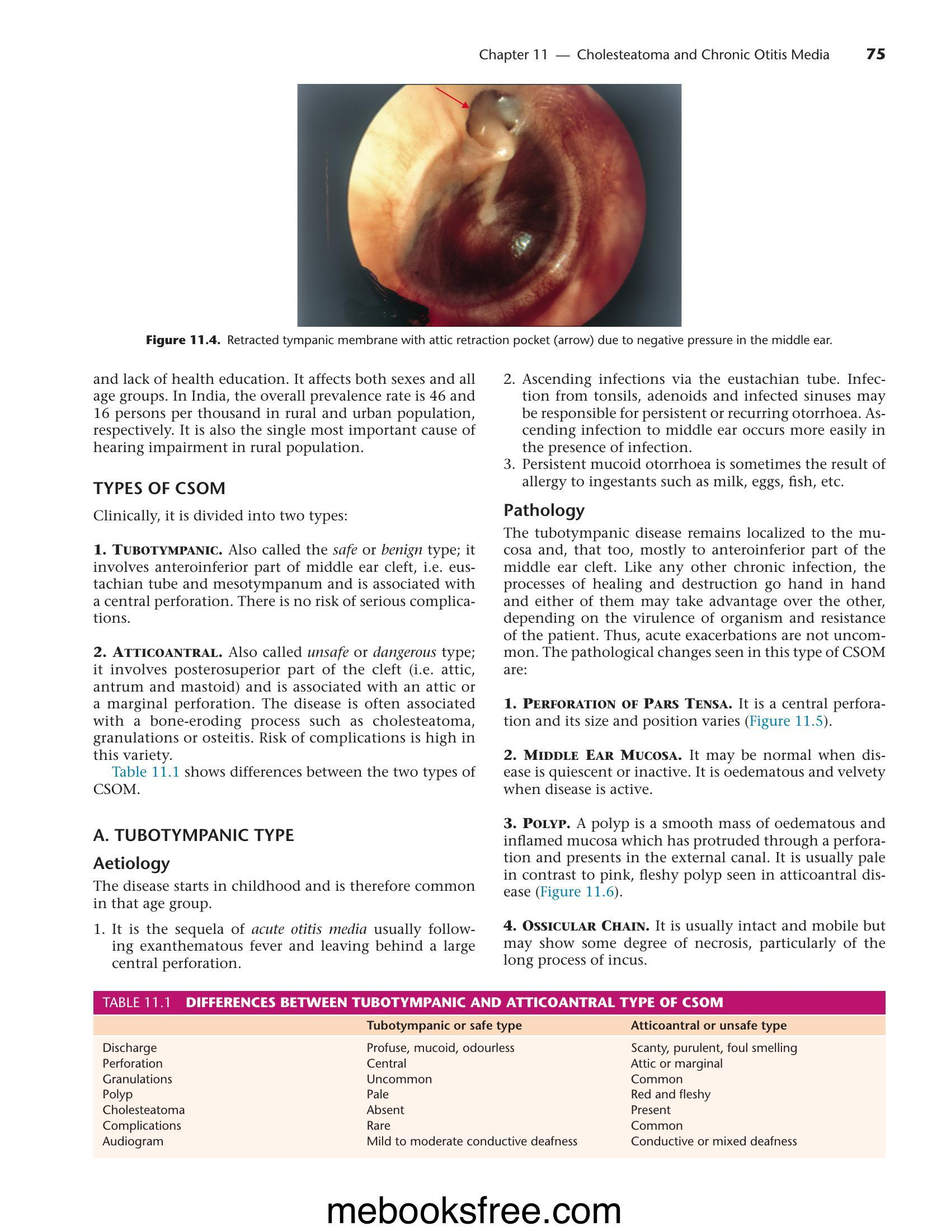caption: (145, 333, 833, 348), (101, 995, 724, 1008)
header: (479, 48, 830, 64)
image: (297, 83, 682, 327)
list: (502, 696, 887, 971), (91, 541, 477, 765), (502, 372, 888, 491), (93, 921, 477, 973)
section-heading: (91, 478, 228, 497)
sub-section-heading: (92, 827, 295, 842), (92, 854, 171, 874)
table: (92, 1014, 885, 1160)
text: (501, 525, 887, 677), (92, 371, 476, 456), (92, 879, 476, 913), (93, 765, 478, 797), (91, 508, 348, 526)
